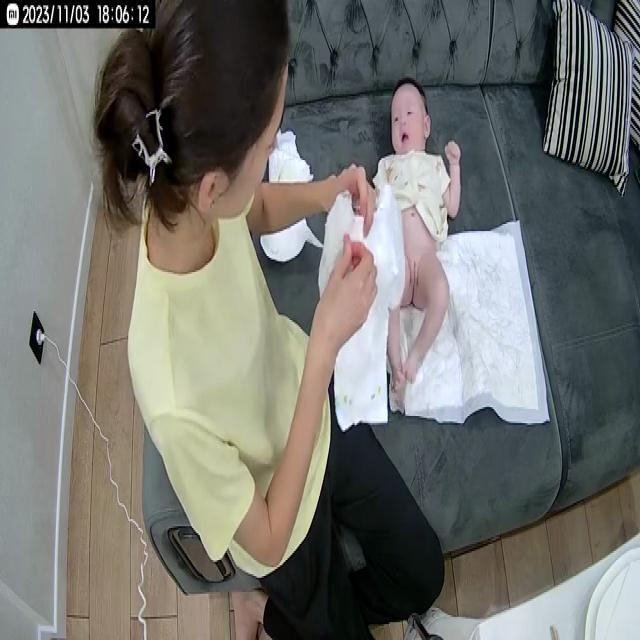baby: (339, 79, 473, 406)
